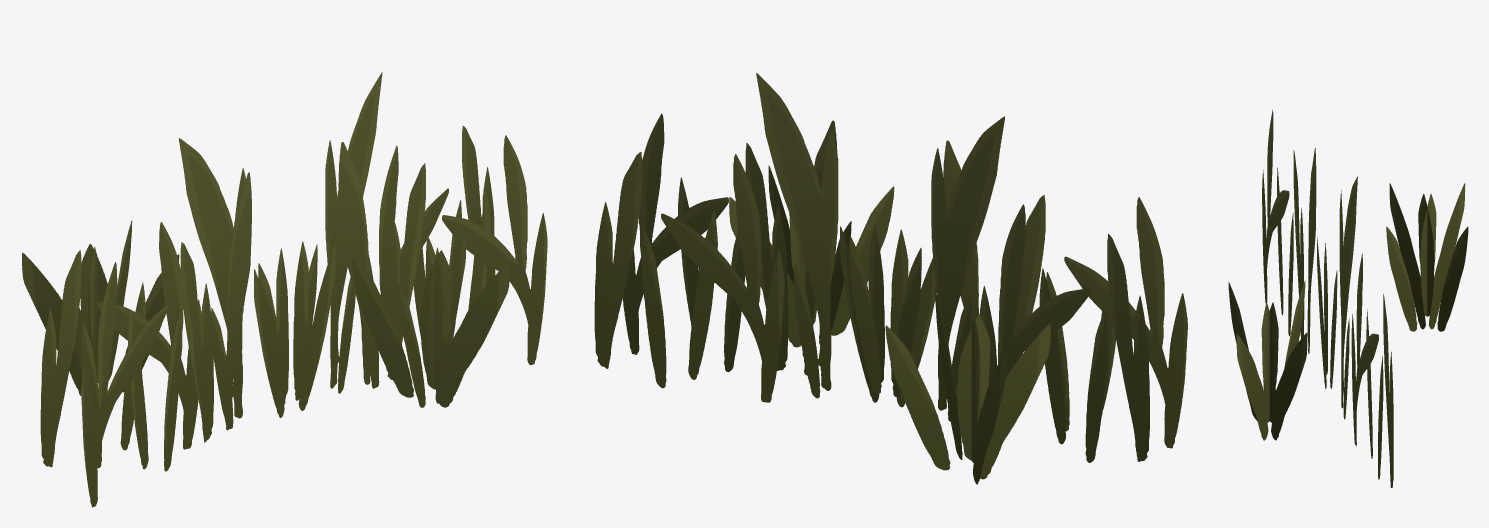
File: grass_3.fbx
3 renders of one model, left to right at view 1: azimuth 30°, elevation 25°; view 2: azimuth 150°, elevation 25°; view 3: azimuth 270°, elevation 25°, orthographic. The views are drawn at different scales.
Visible parts, largest first — view 1: Grass-3; view 2: Grass-3; view 3: Grass-3.
Part boxes in pixels (x1,y1,x2,y2): Grass-3: (22,72,547,507); Grass-3: (594,73,1187,484); Grass-3: (1228,109,1468,487).
Bounding box in the file's own units: 44.49 × 25.94 × 21.36.
1 material, 1 textured.
